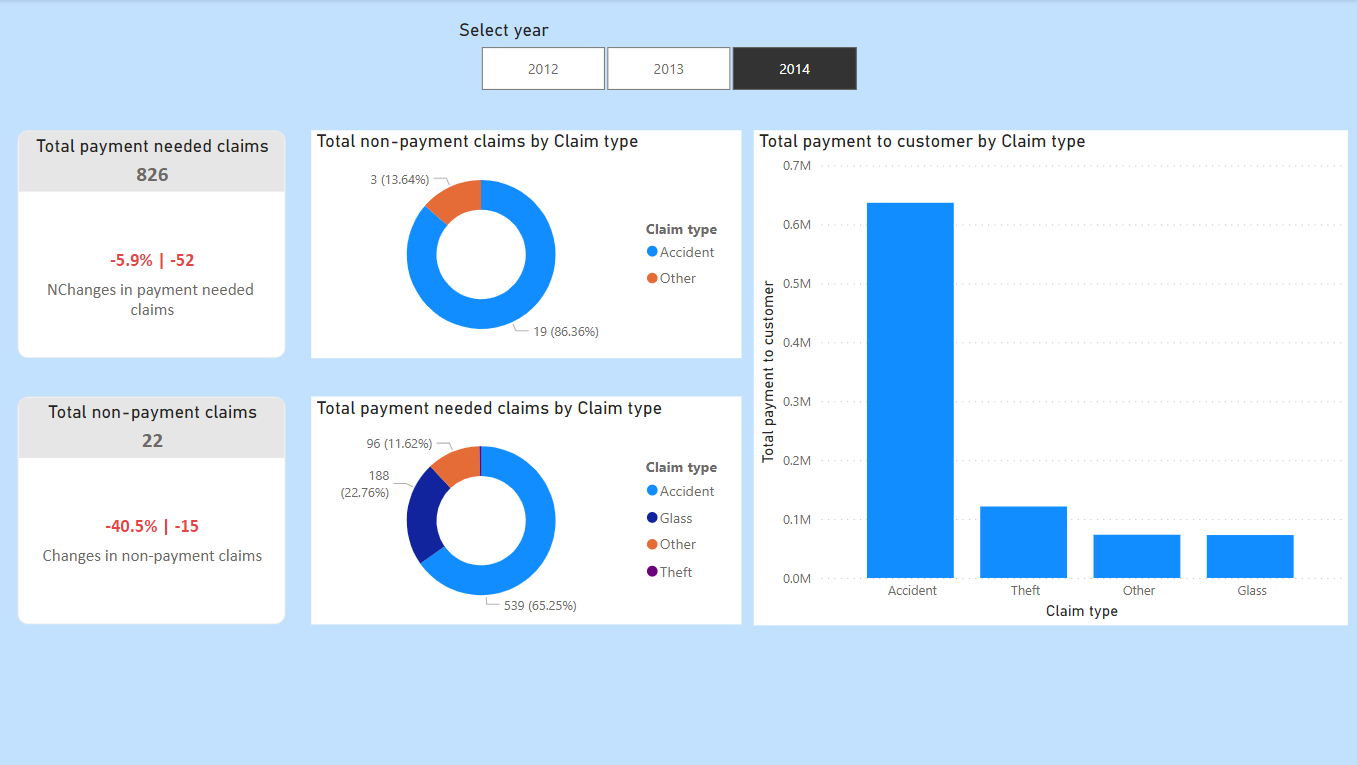

Layout of this report page (visuals, bound fields, positions):
{"tool":"powerbi","page":{"name":"Introduction of claims","canvas":[1280,720],"ordinal":1},"visuals":[{"type":"slicer","title":"Select year","fields":{"Values":["policies.year"]},"box":[425,18.8,401.2,73.8],"z":0},{"type":"card","title":"Total payment needed claims","fields":{"Values":["calculations.KPI Increase Number of Claims ThisYear"]},"box":[16.8,122.9,251.4,213.7],"z":1000},{"type":"card","title":"Total non-payment claims","fields":{"Values":["calculations.KPI Increase Number of Non Payment Claims ThisYear"]},"box":[16.8,372.9,251.4,213.7],"z":2000},{"type":"donutChart","fields":{"Y":["calculations.TotalNonZeroPayments"],"Category":["claims.ClaimType"]},"box":[291.9,372.9,403.6,213.7],"z":3000},{"type":"donutChart","fields":{"Y":["calculations.TotalZeroPayments"],"Category":["claims.ClaimType"]},"box":[291.9,122.9,403.6,213.7],"z":4000},{"type":"columnChart","fields":{"Category":["claims.ClaimType"],"Y":["Sum(claims.PaymentToCustomer)"]},"box":[706.6,122.9,557.2,463.6],"z":5000}]}

Visuals, with their boxes in screenshot pixels (x1, y1, x2, y2), scaled from the page's 1280x720 canvas onto the 1357x765 screenshot:
"Select year" slicer: rect(451, 20, 876, 98)
"Total payment needed claims" card: rect(18, 131, 284, 358)
"Total non-payment claims" card: rect(18, 396, 284, 623)
donutChart - calculations.TotalNonZeroPayments x claims.ClaimType: rect(309, 396, 737, 623)
donutChart - calculations.TotalZeroPayments x claims.ClaimType: rect(309, 131, 737, 358)
columnChart - claims.ClaimType x Sum(claims.PaymentToCustomer): rect(749, 131, 1340, 623)
